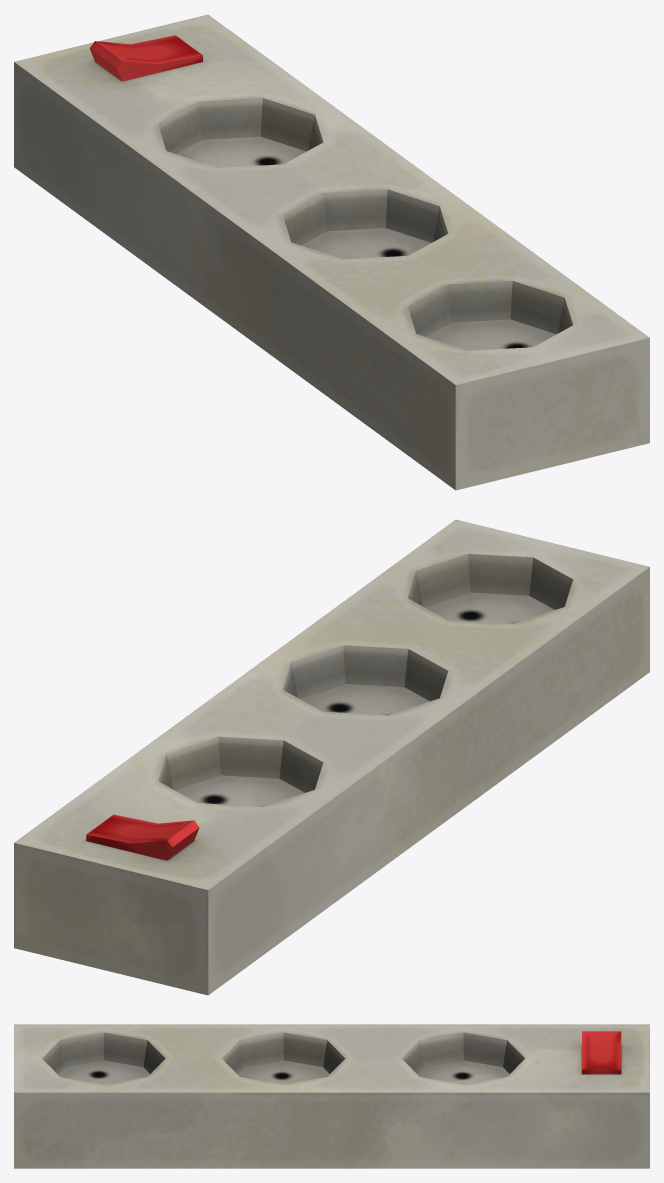
Rendered from extension_cord.glb.
3 views of the same model, one above another, from view 1: azimuth 30°, elevation 25°; view 2: azimuth 150°, elevation 25°; view 3: azimuth 270°, elevation 25° (orthographic). The views are drawn at different scales.
Parts seen in each view (by area): view 1: Extension Cord; view 2: Extension Cord; view 3: Extension Cord.
Boxes of the visible parts, left/top/right/bottom form: Extension Cord: left=14, top=14, right=649, bottom=490; Extension Cord: left=14, top=519, right=649, bottom=995; Extension Cord: left=14, top=1024, right=649, bottom=1168.
Bounding box in the file's own units: 0.24 × 0.1485 × 0.9456.
Materials: 1 (1 with a texture image).
